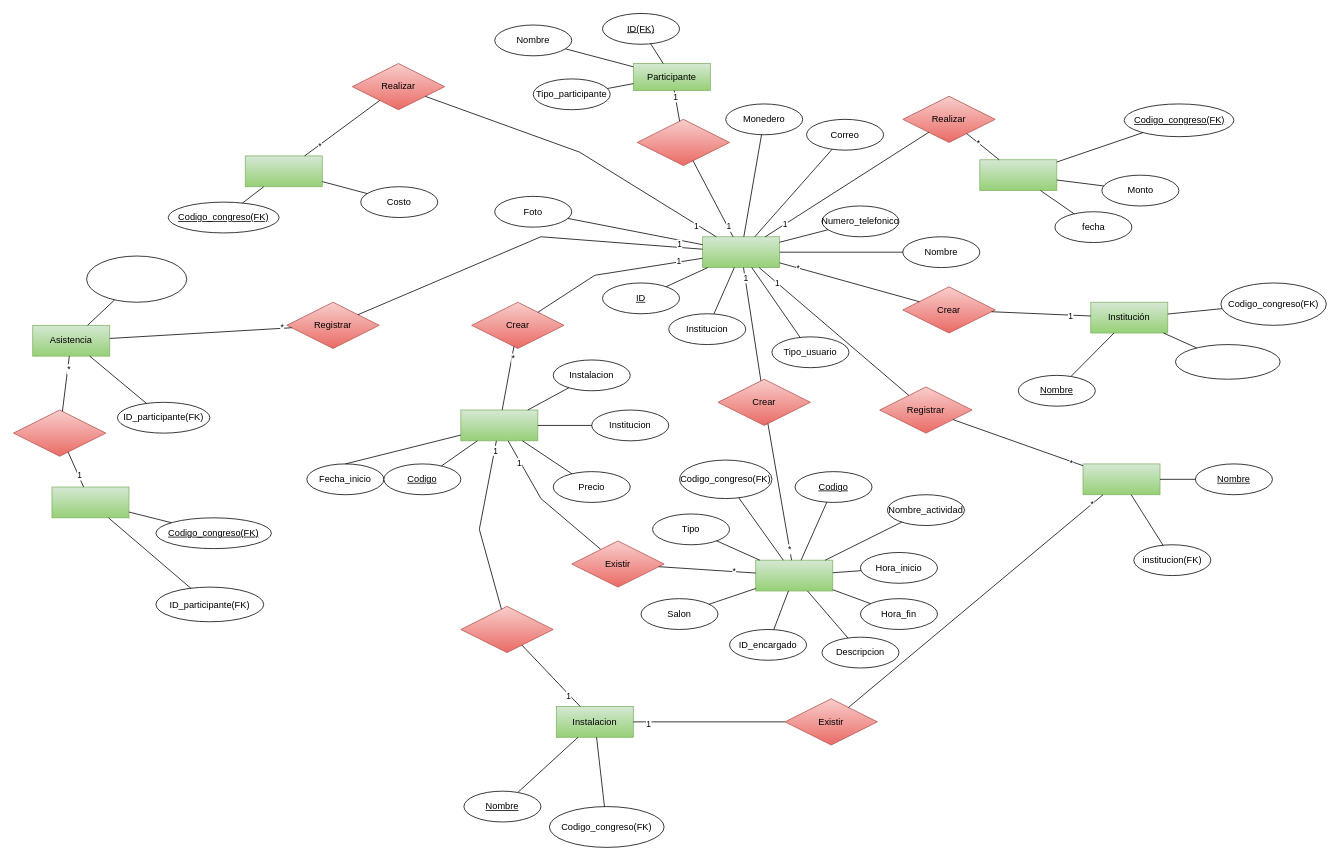
Image size: 1340x861. Some labels were removed from this diagram. The shapes that lost their labels are listed below. From the top down, each one's centre as x and y in pixels, then its label:
the point at 683,142: Convertir
the point at 283,171: Inscripcion
the point at 1018,175: Pago
the point at 741,252: Usuario
the point at 136,278: Codigo_actividad(FK)
the point at 1227,361: ID_administrador(FK)
the point at 59,432: Generar
the point at 499,425: Congresos
the point at 1121,479: Salones
the point at 90,502: Diploma
the point at 794,575: Actividades
the point at 506,629: Albergar
